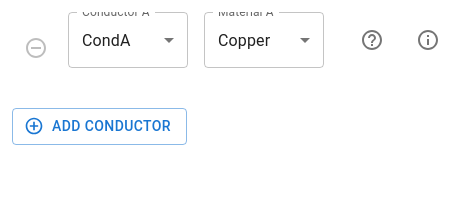
Scenario: ConductorInput › changing material select shows all materials
Press the mouse on the dropdown named "Material A" at (244, 40), box [218,30,270,50]
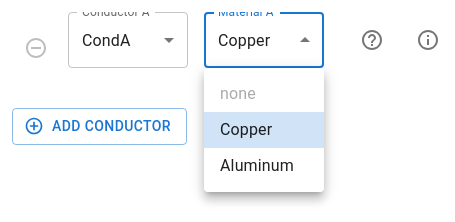
Expected: the number of options is 3, [220,84,256,103]; [204,112,324,148]; [220,156,294,175]
Expected: the option "none" is shown, [220,84,256,103]
Expected: the option "Copper" is shown, [204,112,324,148]
